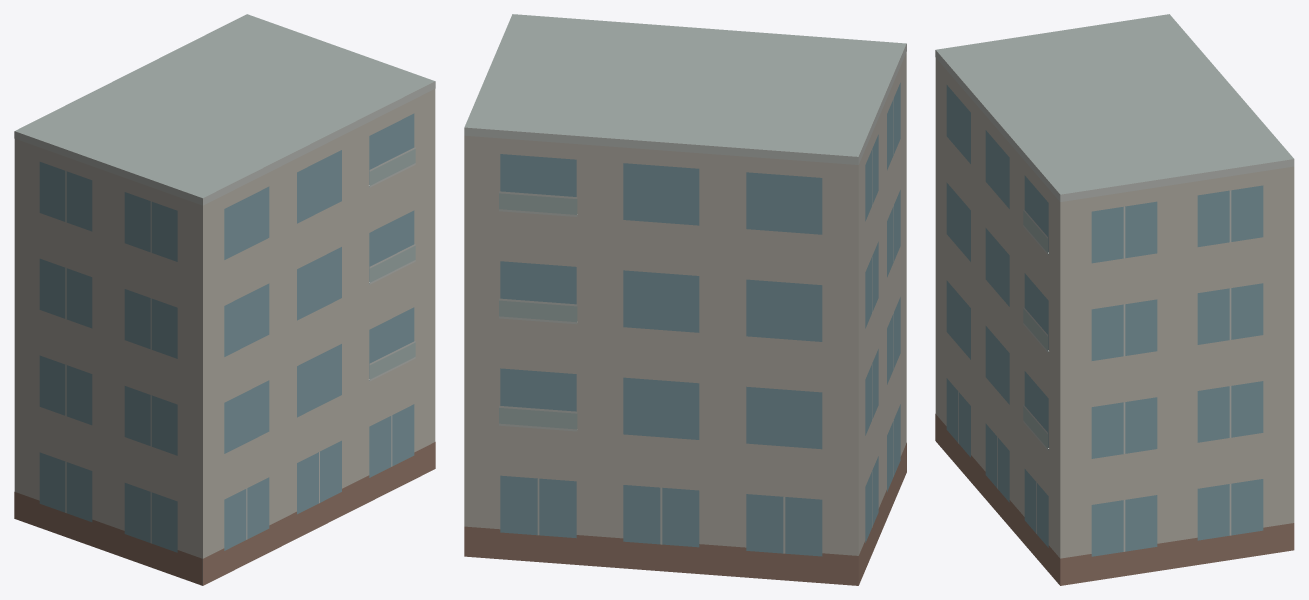
Rendered from survey-upis-33017699.glb.
The picture shows the model from 3 angles, left to right: view 1: azimuth 30°, elevation 25°; view 2: azimuth 150°, elevation 25°; view 3: azimuth 270°, elevation 25°; orthographic projection. The views are drawn at different scales.
Visible parts, largest first — view 1: survey-upis-33017699.tmp; view 2: survey-upis-33017699.tmp; view 3: survey-upis-33017699.tmp.
Part boxes in pixels (x1,y1,x2,y2): survey-upis-33017699.tmp: [14, 14, 435, 585]; survey-upis-33017699.tmp: [464, 14, 906, 585]; survey-upis-33017699.tmp: [935, 14, 1294, 585].
Size of the model in its own units: 12.69 by 12.8 by 10.65.
